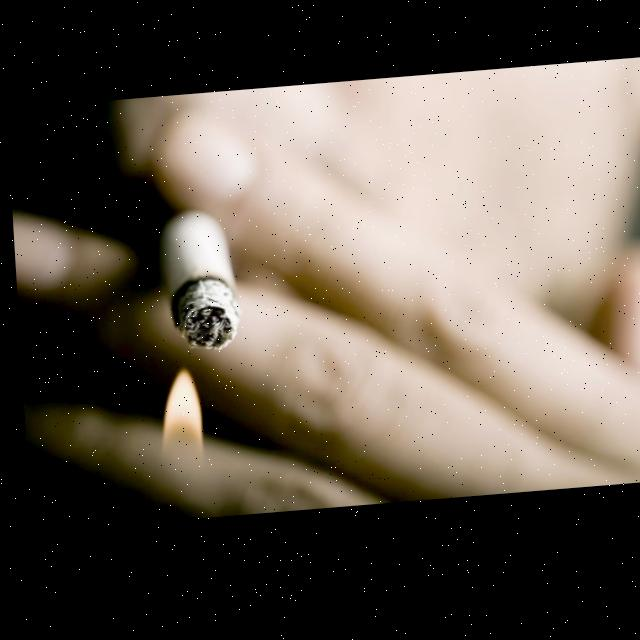cigarette: (158, 210, 239, 356)
